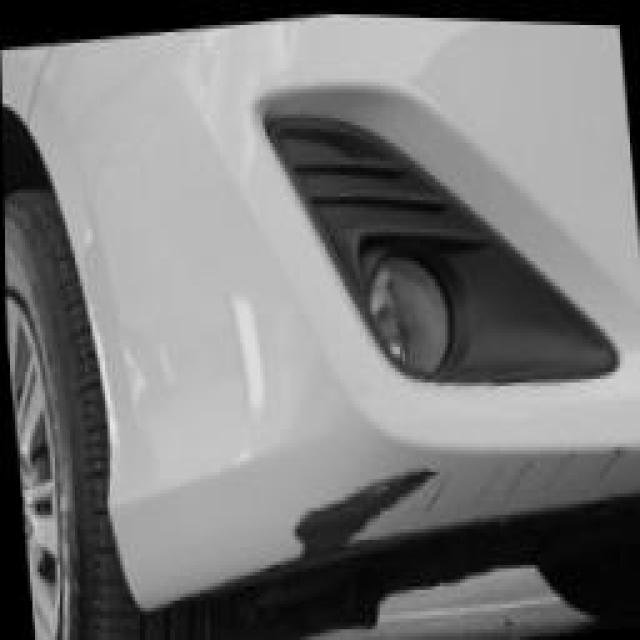Bumper: (258, 413, 640, 567)
